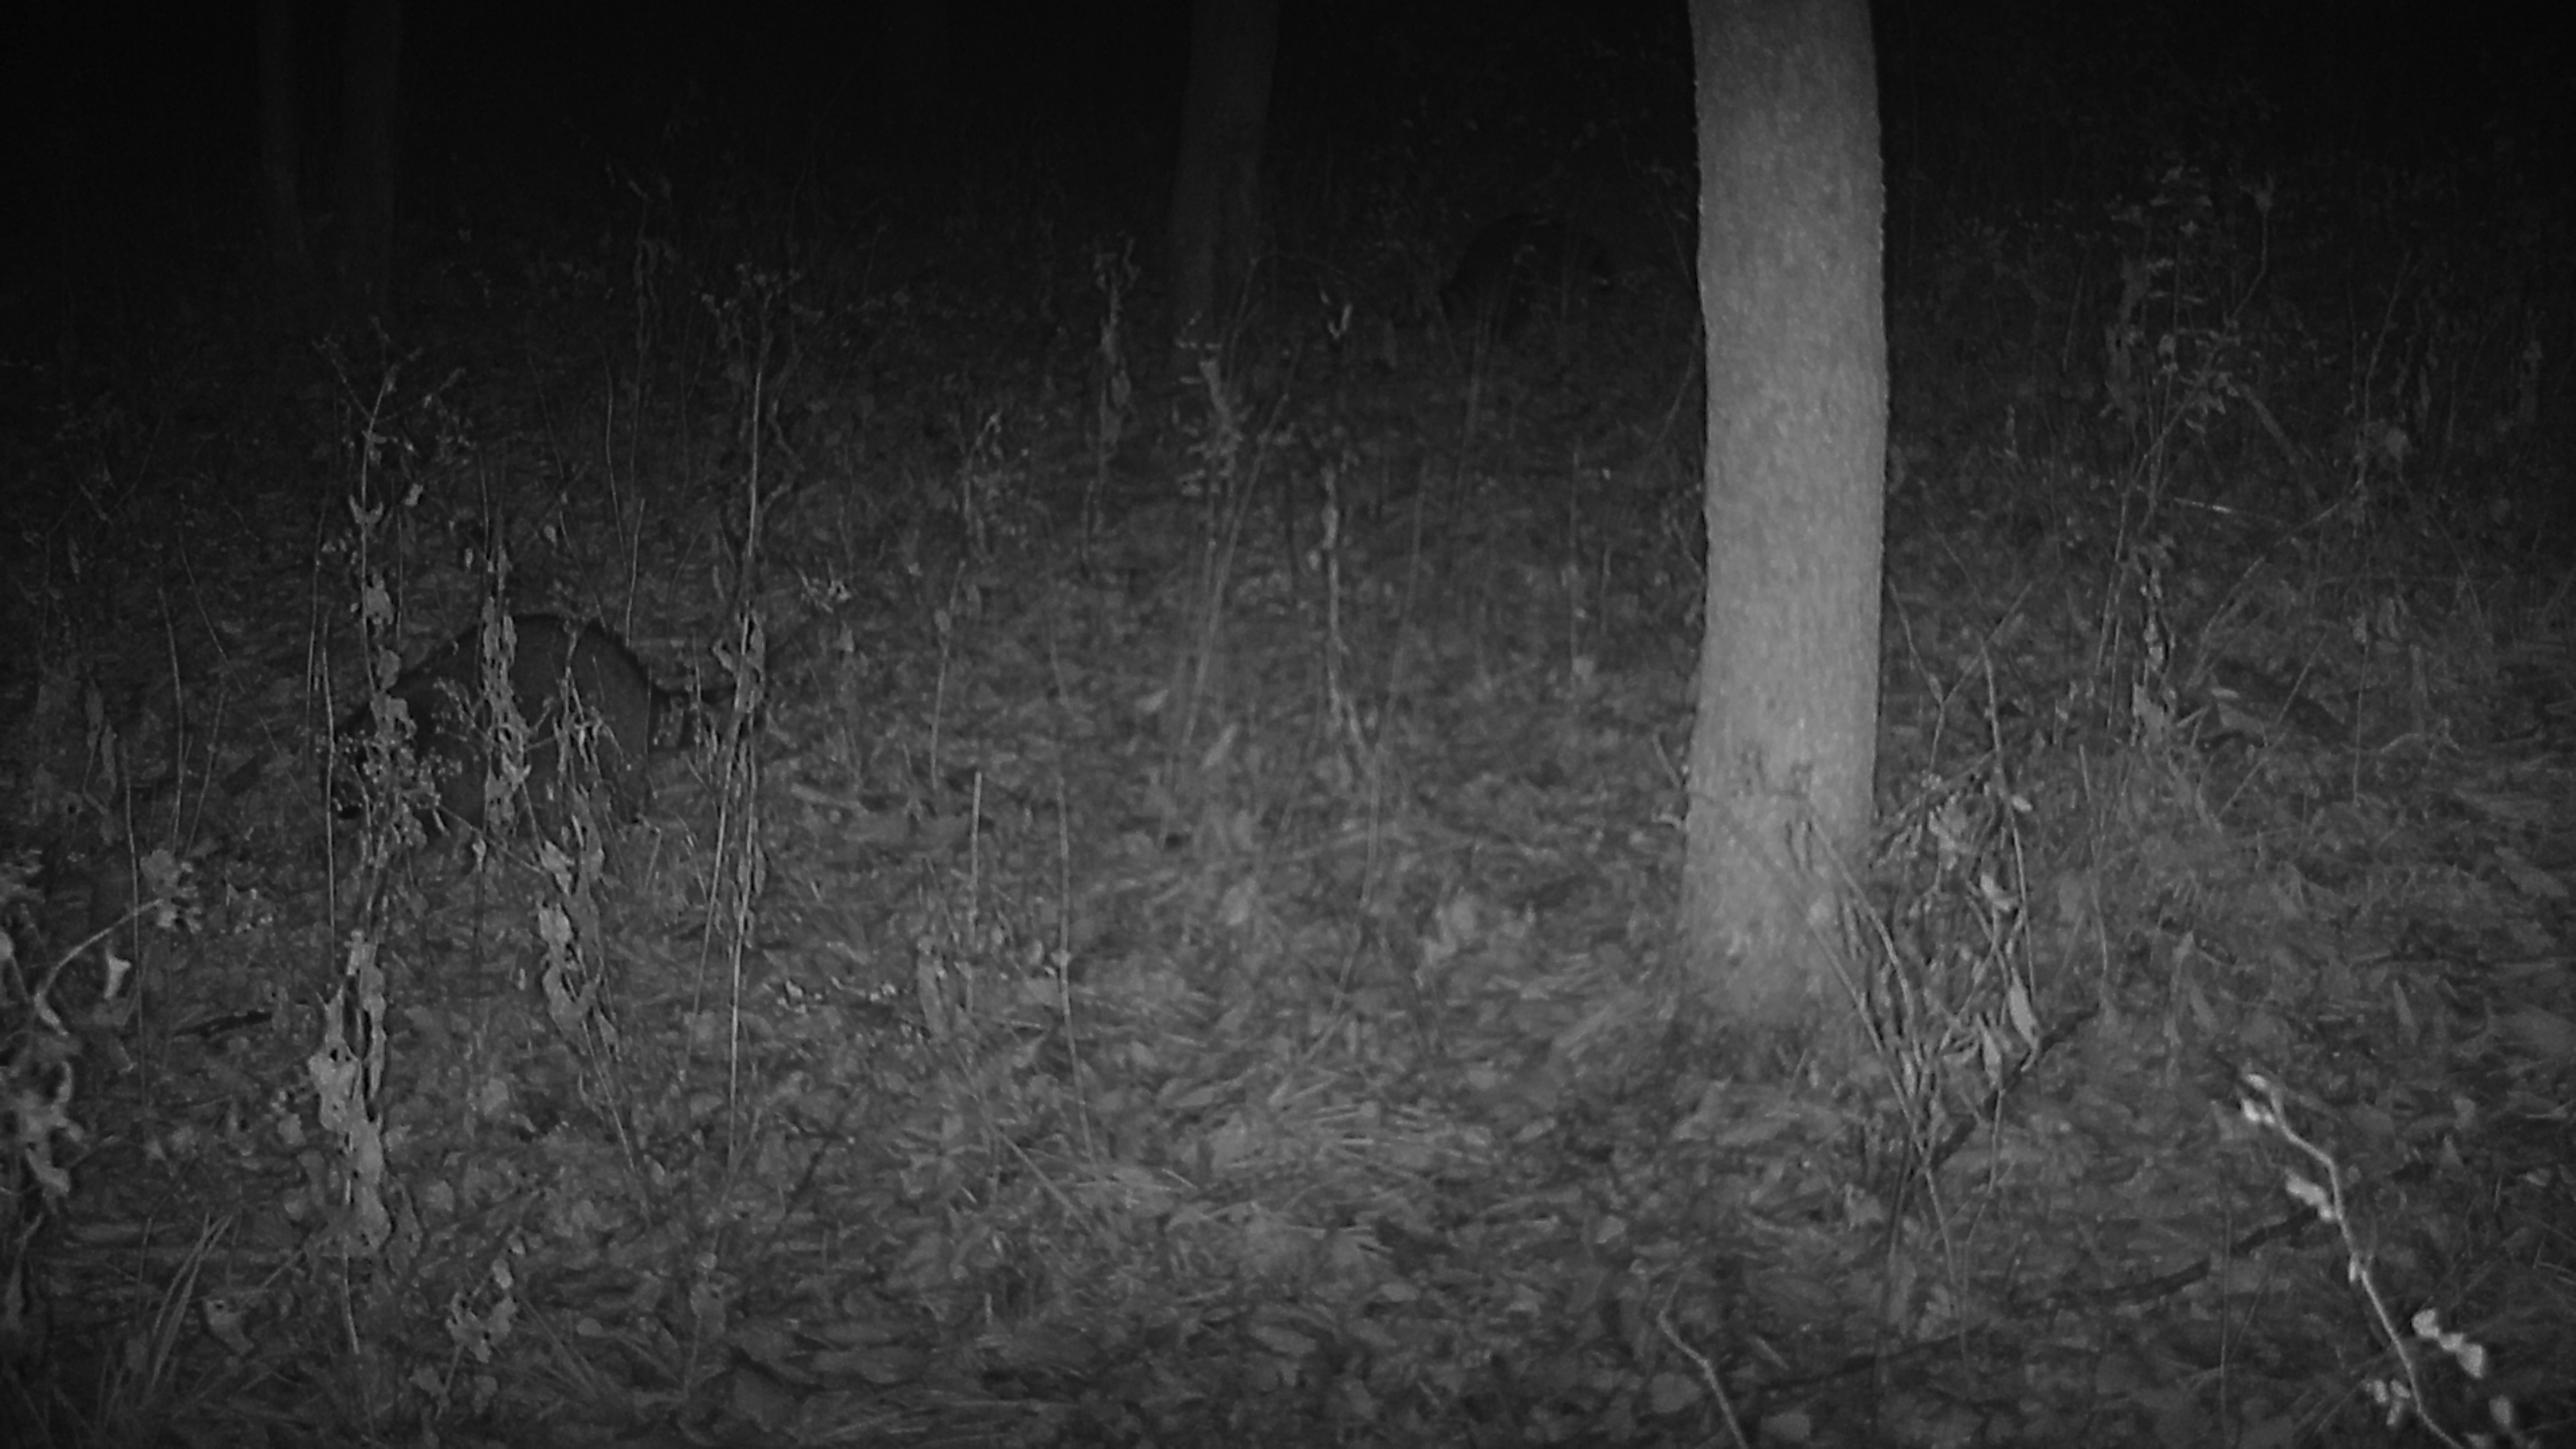Raccoon: (324, 603, 743, 819), (1430, 205, 1621, 331)
